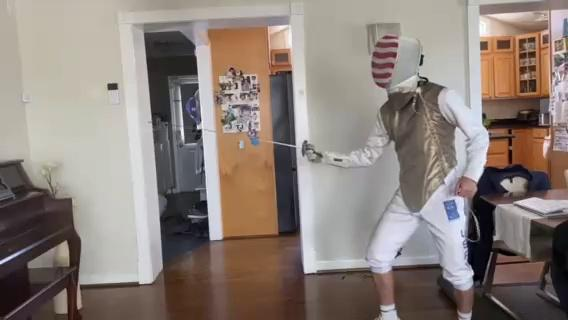blade-guard: (300, 137, 309, 160)
blade-tip: (147, 119, 179, 130)
fencing-blade: (146, 118, 326, 165)
